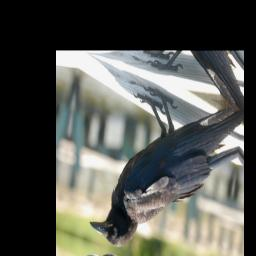Crow: (87, 62, 243, 256)
